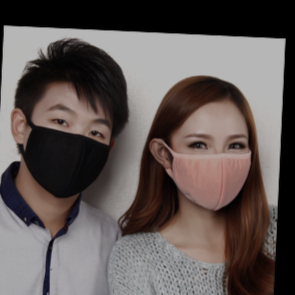with_mask: (21, 102, 112, 201), (171, 130, 251, 214)
